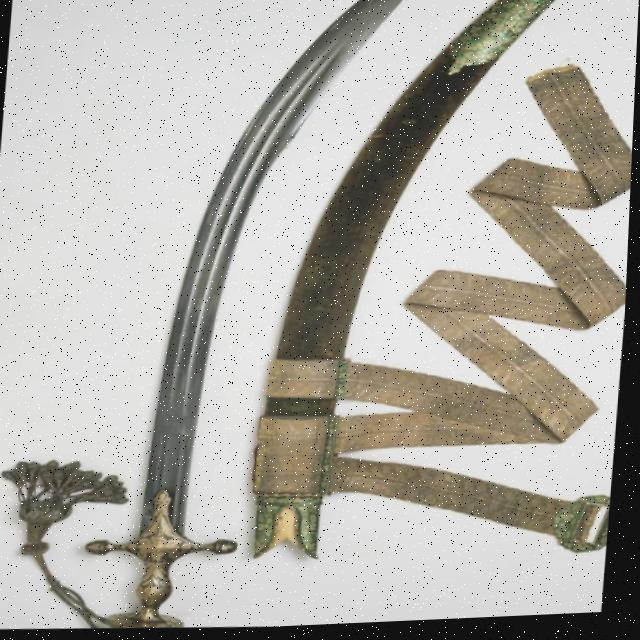knife: (85, 0, 435, 636)
